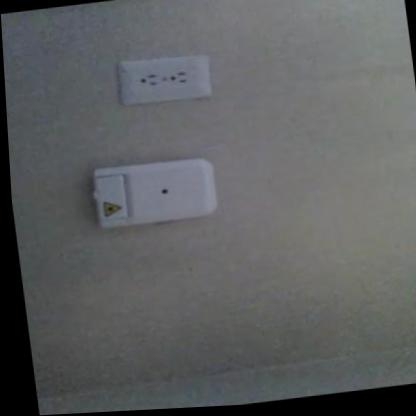OUTLET: (117, 53, 213, 108)
